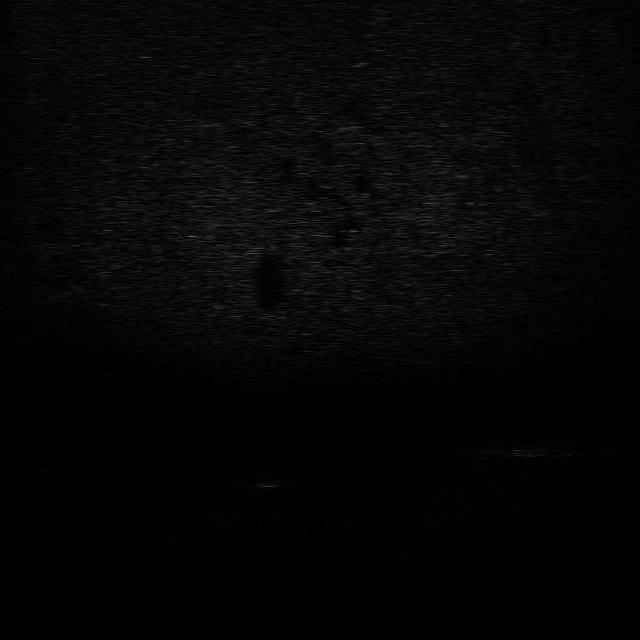ball: (470, 438, 572, 462)
